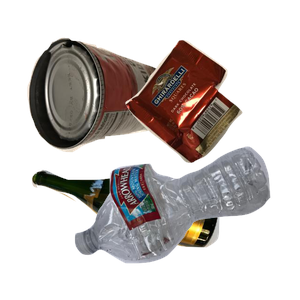glass: (29, 167, 241, 300)
metal: (25, 35, 189, 180)
plastic: (72, 144, 300, 300)
trash: (123, 37, 300, 192)
